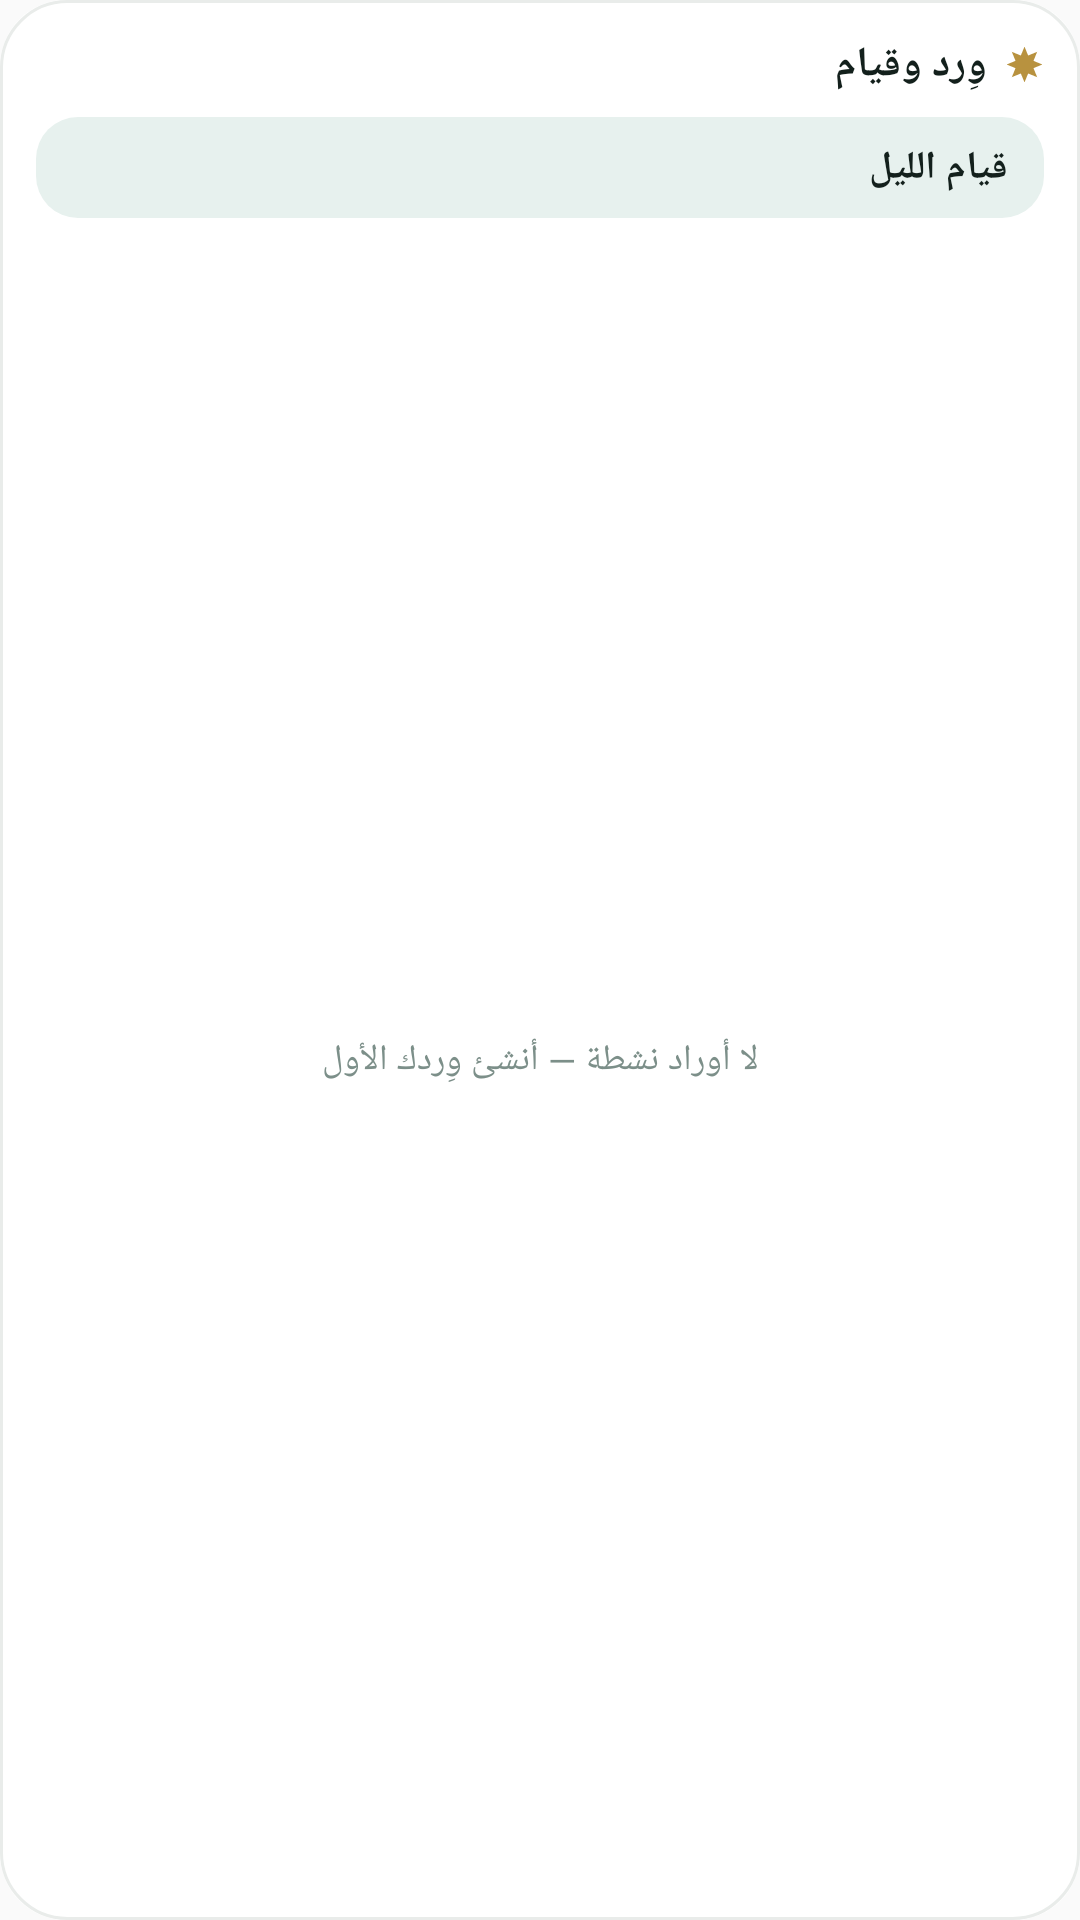

Screen size 1080x1920. Icon name, then its center in pixels as point (x, y):
star: point (1024, 64)
